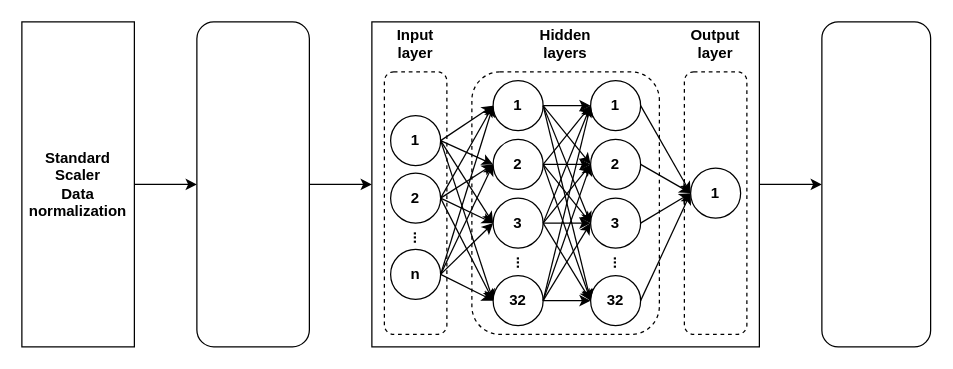
The diagram is 953 pixels wide and 369 high, and some of its shapes have lost their labels. Each missing label, with the centre of its shape:
"Features Set-N" goes at pixel 252 184.
"HDL prediction" goes at pixel 876 184.
